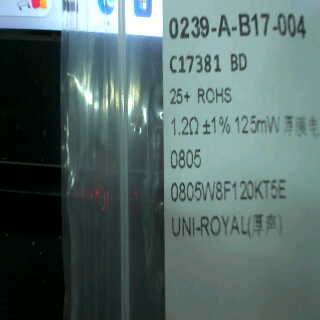1.2R: (168, 114, 201, 172)
